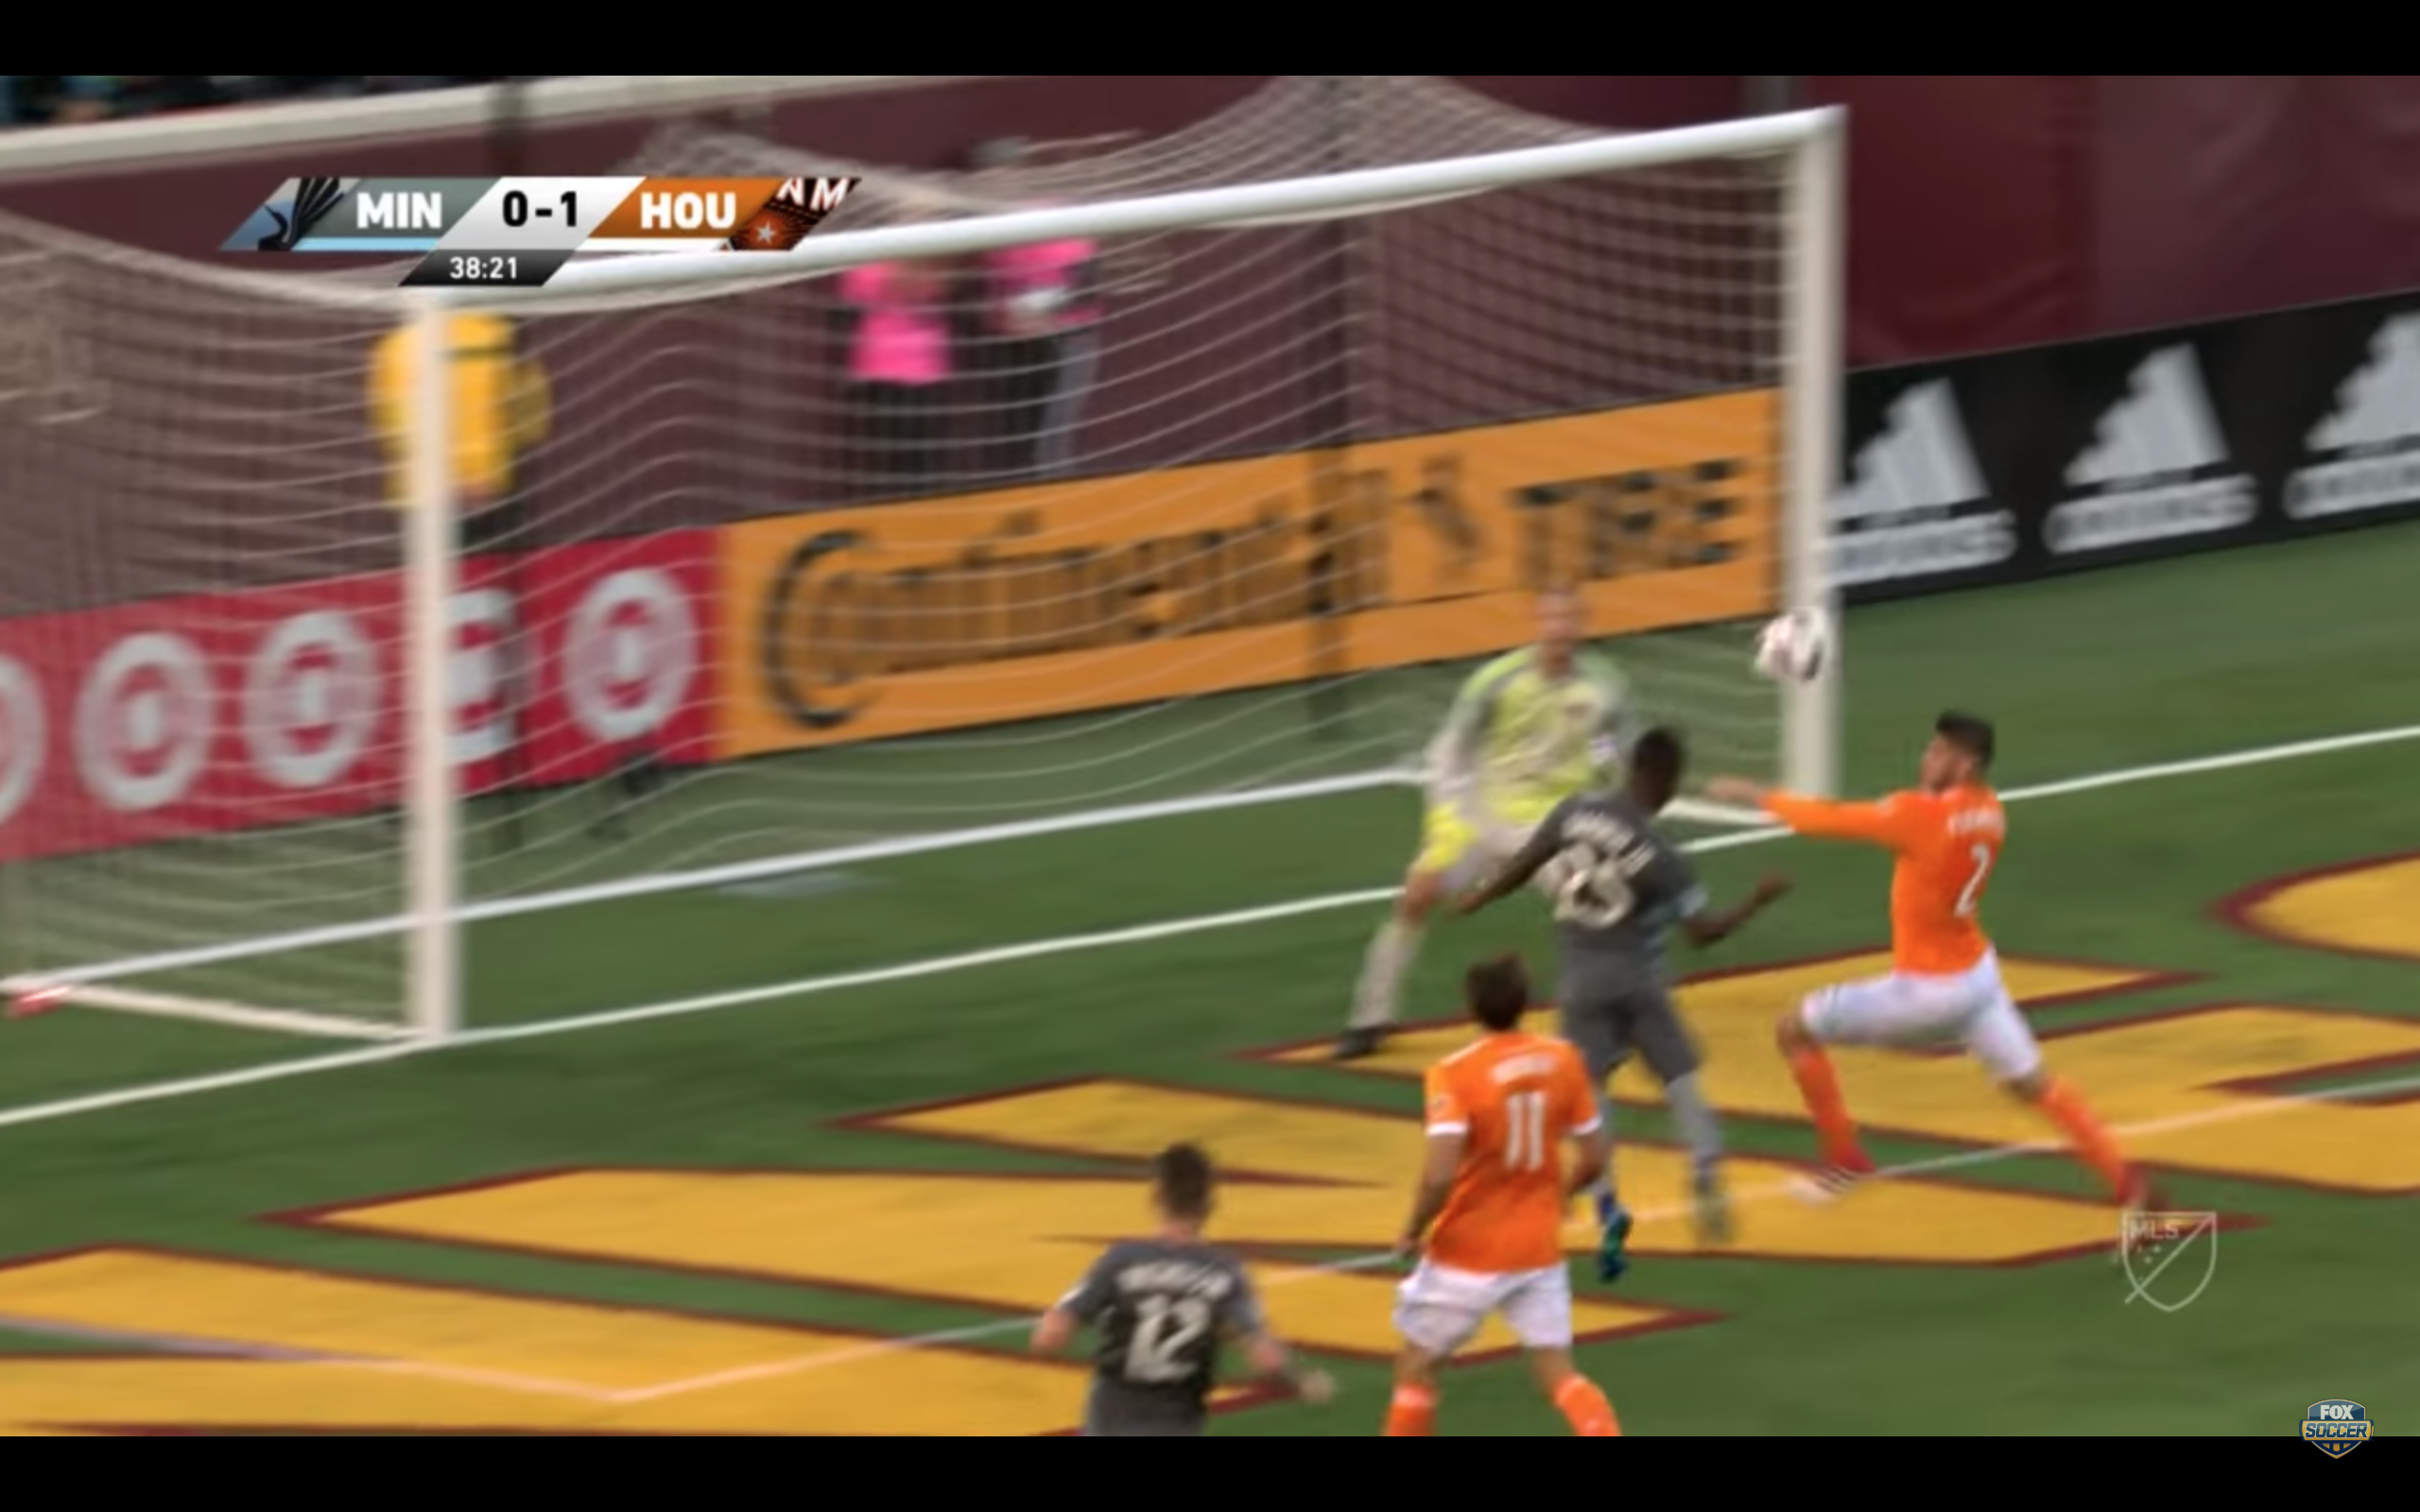soccer ball: (1736, 599, 1850, 698)
soccer player: (1704, 705, 2174, 1220), (1452, 724, 1796, 1202), (1332, 587, 1651, 1063), (1380, 960, 1627, 1439), (1022, 1136, 1345, 1435)
